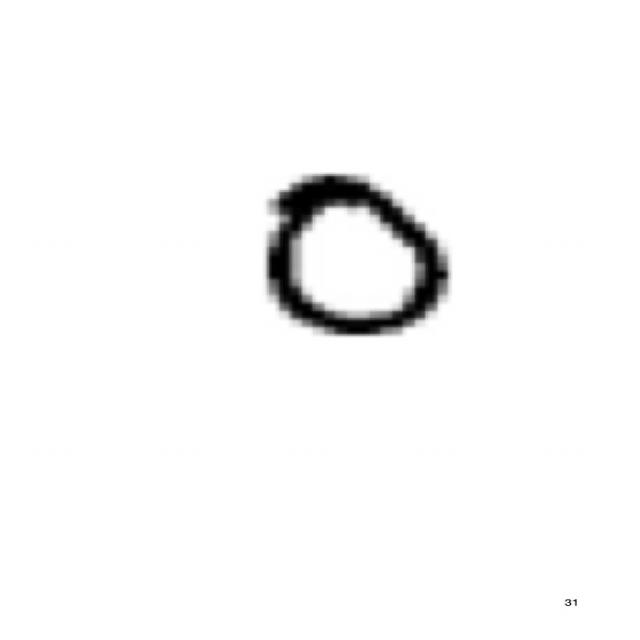5 -five-: (250, 166, 461, 345)
